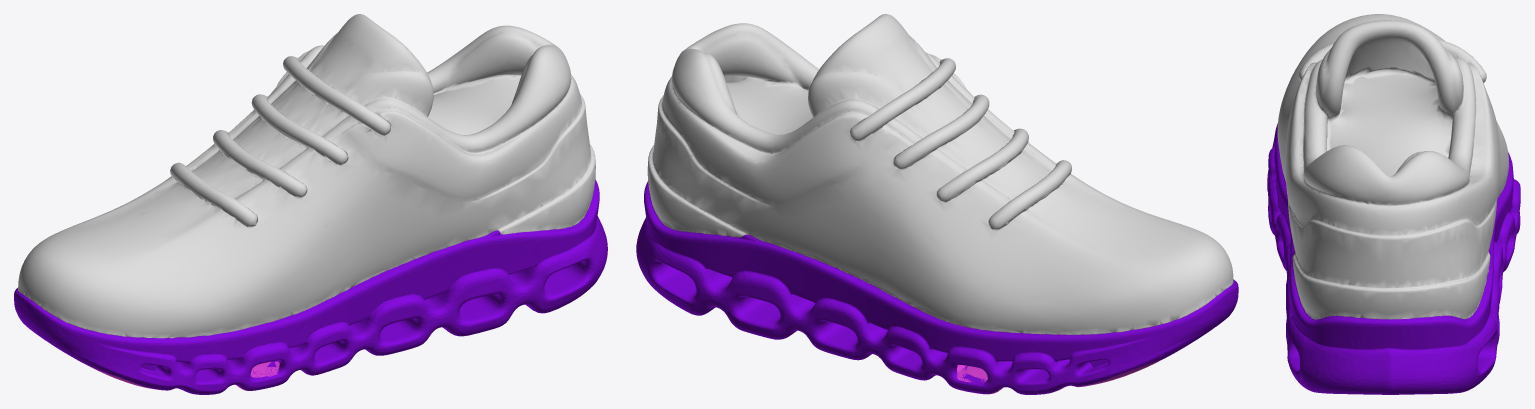
Rendered from MDL_Tenis.fbx.
3 views of the same model, side by side, from view 1: azimuth 30°, elevation 25°; view 2: azimuth 150°, elevation 25°; view 3: azimuth 270°, elevation 25° (orthographic).
Parts seen in each view (by area): view 1: model_part1.032, model_part4.006, model_part5.004; view 2: model_part1.032, model_part4.006, model_part5.004; view 3: model_part1.032, model_part4.006, model_part5.004.
Boxes of the visible parts, x1,y1,x2,y2 form: model_part1.032: [18, 14, 595, 338]; model_part4.006: [14, 179, 607, 394]; model_part5.004: [170, 56, 391, 227]; model_part1.032: [647, 14, 1233, 334]; model_part4.006: [636, 181, 1238, 394]; model_part5.004: [849, 58, 1071, 230]; model_part1.032: [1277, 14, 1508, 319]; model_part4.006: [1267, 123, 1520, 394]; model_part5.004: [1299, 39, 1486, 82].
Bounding box in the file's own units: 248 × 120 × 94.59.
